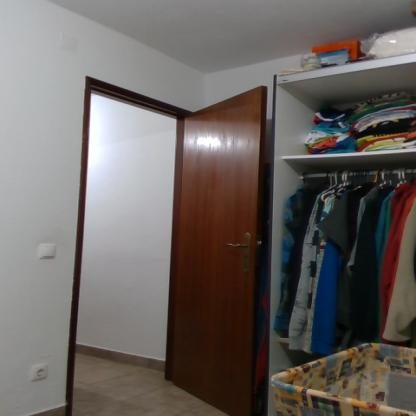open: (63, 67, 278, 410)
